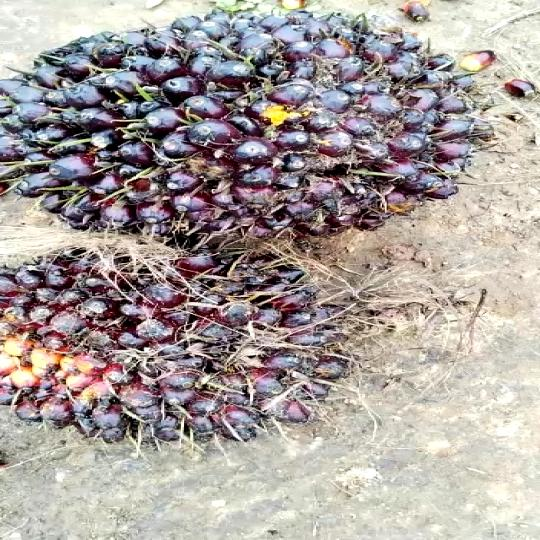kurang masak: (0, 7, 514, 265), (0, 241, 351, 448)
